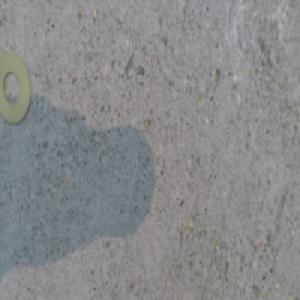Washer: (1, 54, 30, 126)
